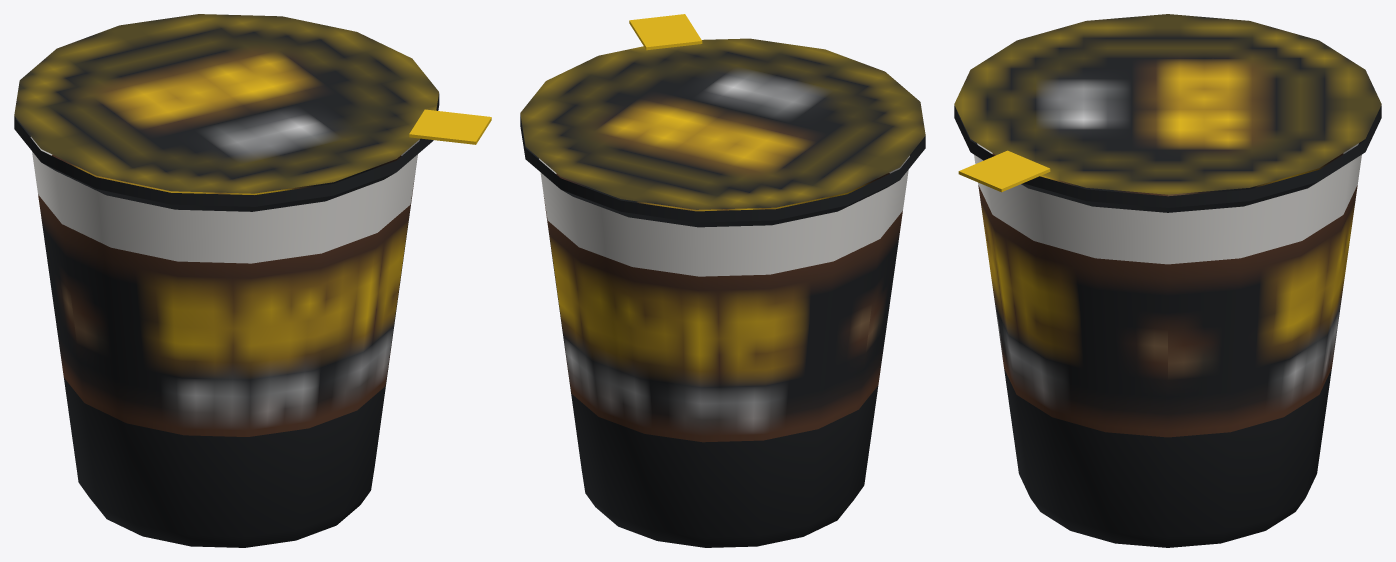
Rendered from SC_Prod_CupRamen_Small_Jjajang.gltf.
The picture shows the model from 3 angles, left to right: view 1: azimuth 30°, elevation 25°; view 2: azimuth 150°, elevation 25°; view 3: azimuth 270°, elevation 25°; orthographic projection. The views are drawn at different scales.
Parts seen in each view (by area): view 1: SC_Prod_CupRamen_Small_Jjajang; view 2: SC_Prod_CupRamen_Small_Jjajang; view 3: SC_Prod_CupRamen_Small_Jjajang.
Boxes of the visible parts, box(x1,y1,x2,y2) form: SC_Prod_CupRamen_Small_Jjajang: box(14, 14, 491, 547); SC_Prod_CupRamen_Small_Jjajang: box(520, 14, 925, 547); SC_Prod_CupRamen_Small_Jjajang: box(954, 14, 1381, 547).
Bounding box in the file's own units: 0.099 × 0.0993 × 0.099.
2 materials, 2 textured.
